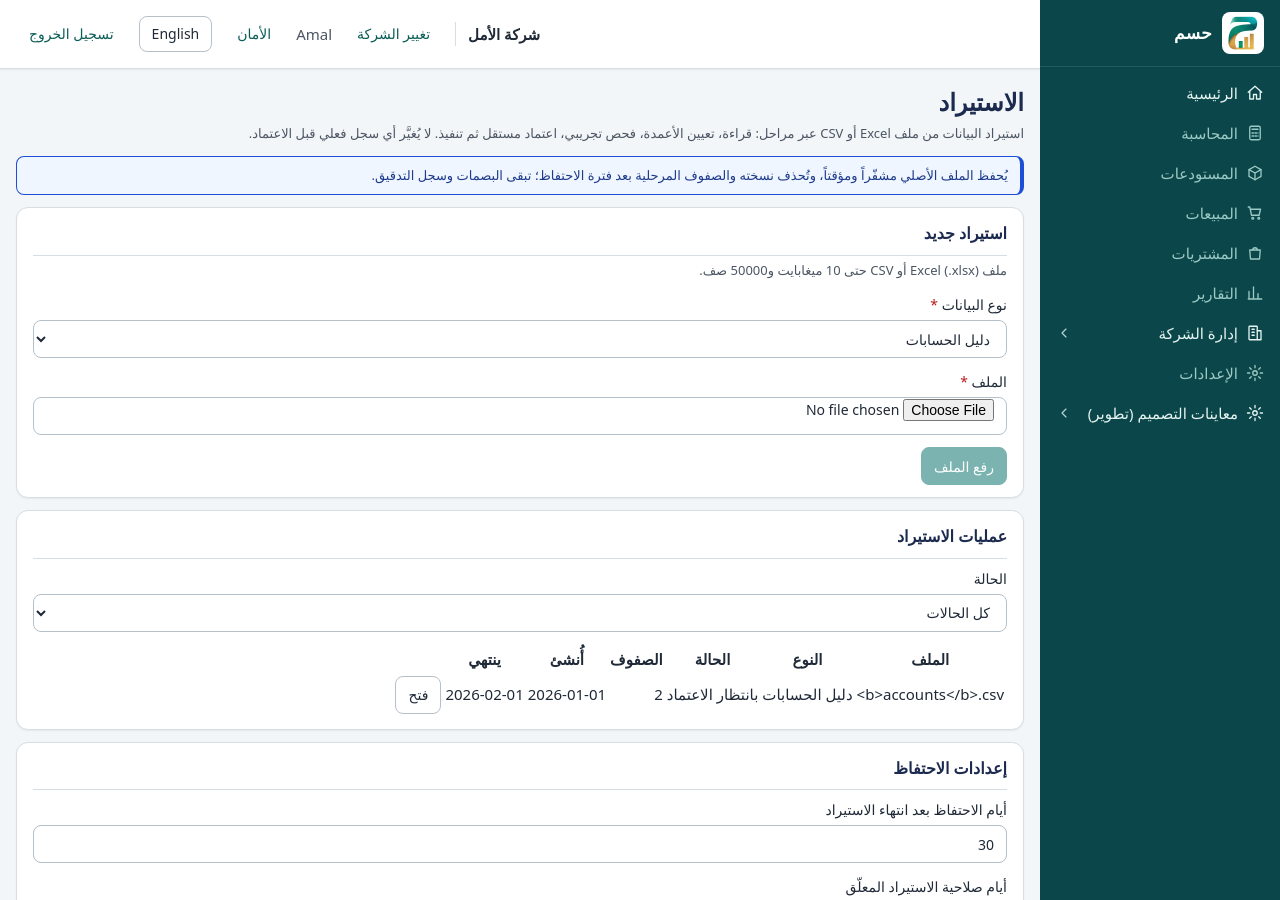
it: imports screen › hides approve for the creator and for the submitter
Expected: the element with test id "company-name" is shown, [455, 22, 540, 46]
Step 1. Click the button "فتح" → click(418, 695), box [396, 676, 442, 714]
(page scrolled)
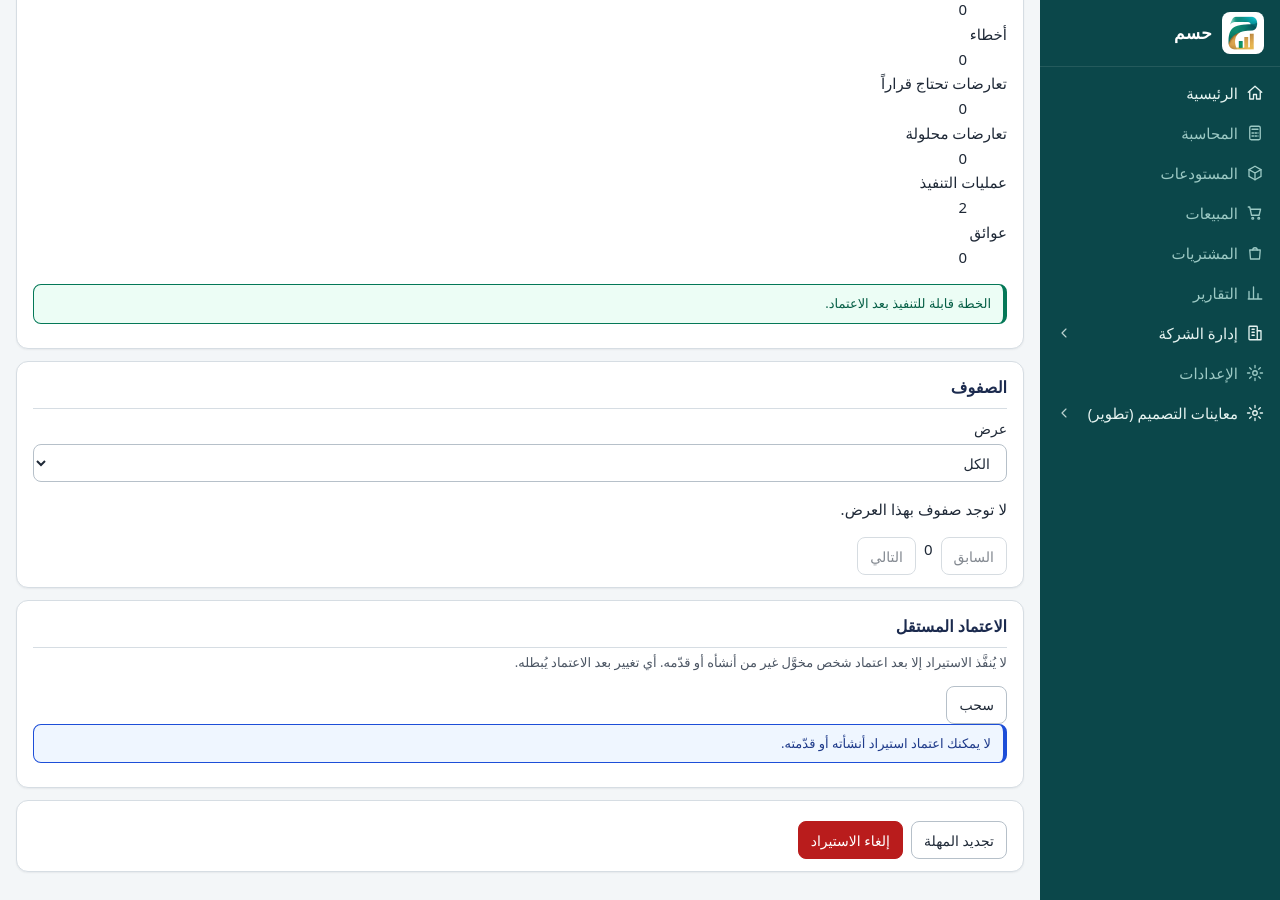
Expected: the message "لا يمكنك اعتماد استيراد أنشأته أو قدّمته." is shown, [33, 724, 1007, 763]
